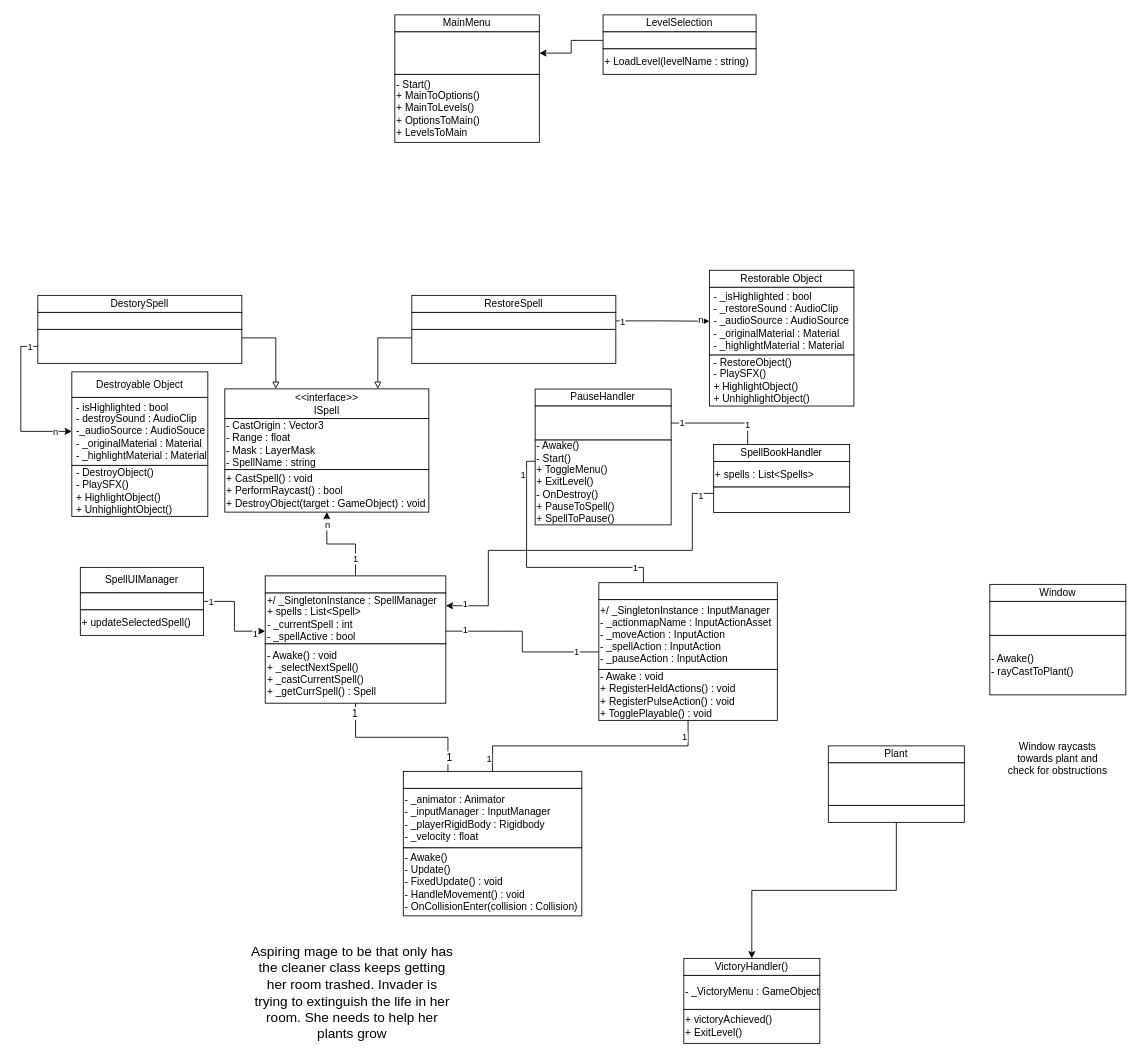
Some shapes in this 1141 by 1058 pixel diagram are drawn without their labels. Here are the shapes that lost their labels. From the top down, the box of each, then its label:
(394, 31, 539, 74): - _mainMenu : GameObject - _optionsMenu : GameObject - _levelsMenu : GameObject
(37, 329, 242, 363): + CastSpell() : void + DestroyObject(target : GameObject) : void
(411, 329, 616, 363): + CastSpell() : void + RestoreObject(target : GameObject) : void
(534, 405, 671, 440): - _pausemenu : GameObject - _spellBook : GameObject
(713, 486, 850, 513): - _displayInfo()
(264, 575, 446, 593): SpellManager
(598, 582, 777, 600): InputManager
(402, 771, 582, 788): PlayerController
(827, 762, 964, 805): - _plantObject : GameObject - _isMovable : bool - _underThaSun : bool
(827, 805, 964, 822): - grow()
